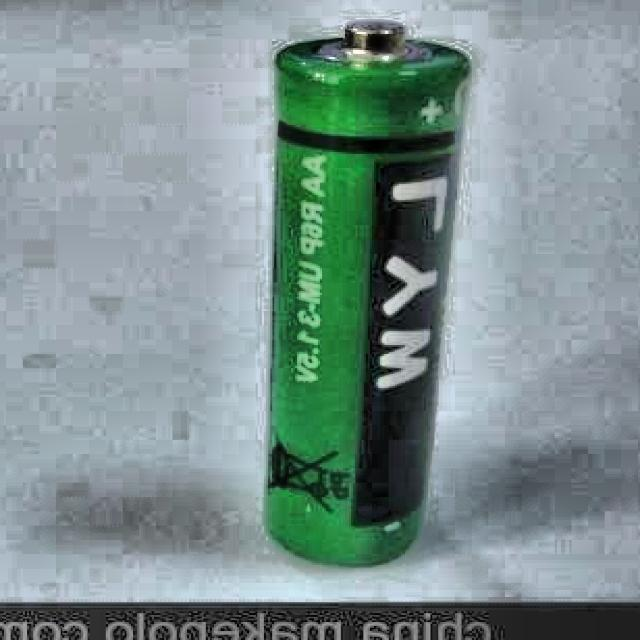Non-Valuable Waste - Batteries: (266, 21, 470, 566)
